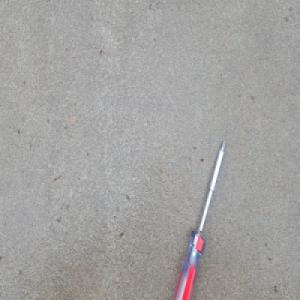Screwdriver: (169, 137, 226, 300)
